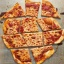pizza: (2, 2, 59, 63)
